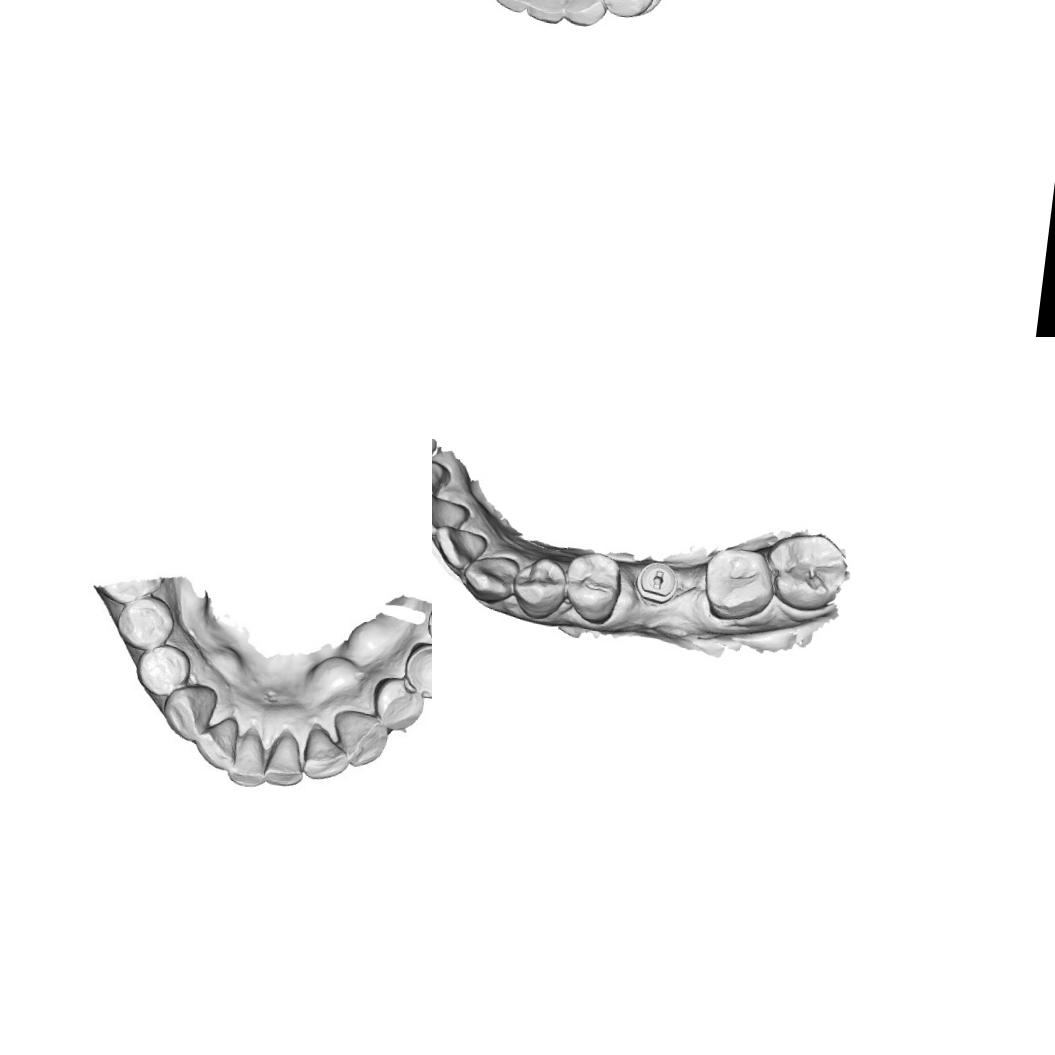canine: (327, 705, 391, 771), (159, 679, 223, 744), (460, 546, 520, 610)
implant_minus: (634, 560, 682, 606)
incisor: (432, 524, 494, 579), (260, 730, 312, 792), (192, 719, 242, 775), (225, 725, 268, 790), (300, 728, 348, 785), (432, 491, 478, 543), (432, 455, 452, 502)
molar: (774, 530, 850, 610), (698, 542, 773, 618)
premolar: (561, 548, 625, 626), (113, 591, 178, 655), (366, 672, 430, 737), (132, 640, 195, 700), (510, 553, 566, 620), (395, 640, 432, 705)
